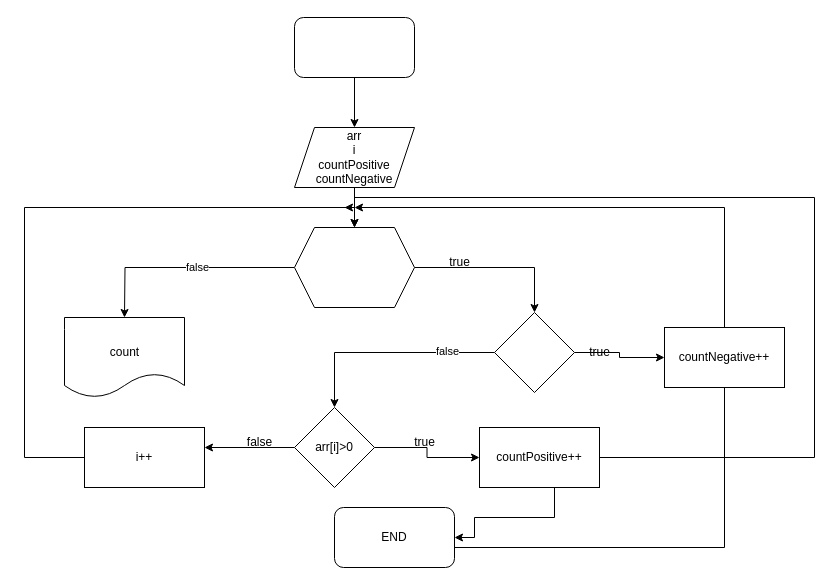
Image size: 840x585. Some labels were removed from this diagram. Each missing label, with the box of its shape:
arr[i]<0: (494, 312, 574, 392)
i<arr.length: (294, 226, 414, 308)
START: (294, 16, 414, 78)
